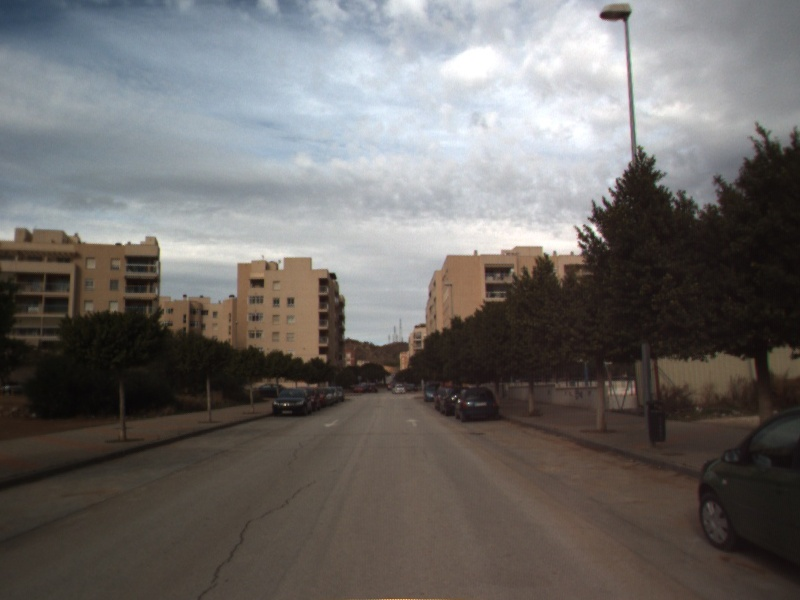STRAIGHT: (404, 416, 423, 428)
